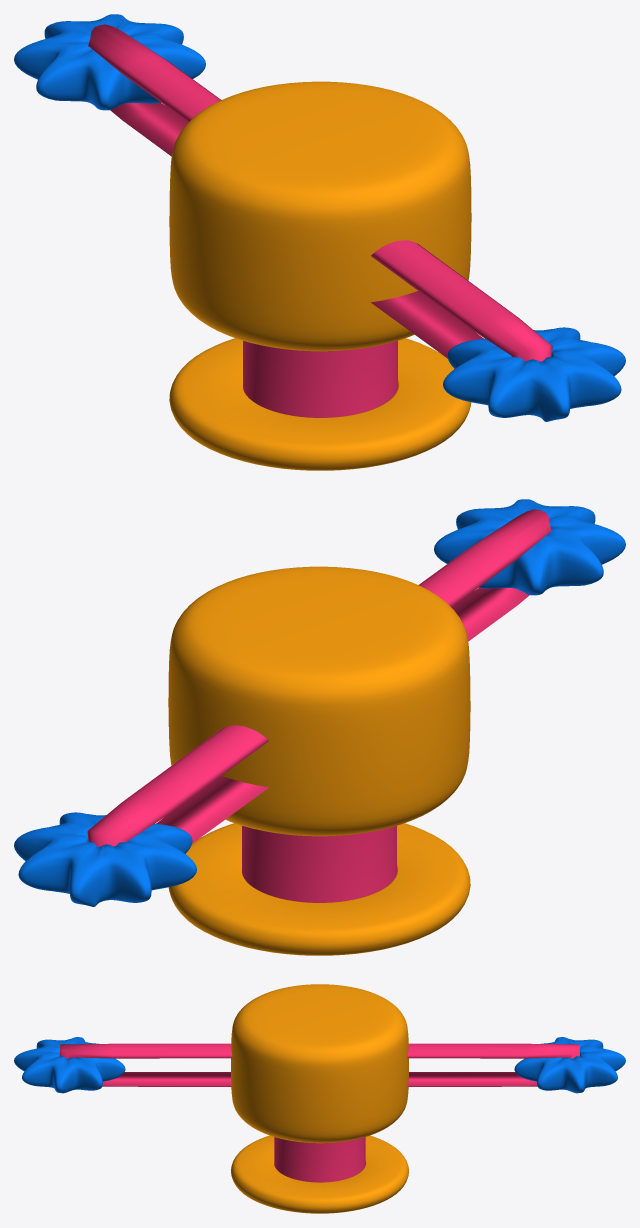
3 renders of one model, top to bottom at view 1: azimuth 30°, elevation 25°; view 2: azimuth 150°, elevation 25°; view 3: azimuth 270°, elevation 25°, orthographic. The views are drawn at different scales.
Parts seen in each view (by area): view 1: Merkez.008, Knife.025, Kol.006, Knife.014, Kol.005; view 2: Merkez.008, Knife.014, Kol.005, Knife.025, Kol.006; view 3: Merkez.008, Kol.005, Kol.006, Knife.014, Knife.025.
Part boxes in pixels (x1=…): Merkez.008: x1=169, y1=81, x2=471, y2=470; Knife.025: x1=443, y1=327, x2=625, y2=421; Kol.006: x1=371, y1=240, x2=552, y2=361; Knife.014: x1=14, y1=14, x2=205, y2=110; Kol.005: x1=88, y1=24, x2=221, y2=156; Merkez.008: x1=168, y1=566, x2=470, y2=955; Knife.014: x1=14, y1=812, x2=196, y2=906; Kol.005: x1=87, y1=725, x2=268, y2=846; Knife.025: x1=434, y1=499, x2=625, y2=595; Kol.006: x1=418, y1=509, x2=551, y2=641; Merkez.008: x1=231, y1=984, x2=408, y2=1213; Kol.005: x1=407, y1=1043, x2=579, y2=1086; Kol.006: x1=60, y1=1043, x2=232, y2=1086; Knife.014: x1=514, y1=1037, x2=625, y2=1093; Knife.025: x1=14, y1=1037, x2=125, y2=1093.
Size of the model in its own units: 39.7 by 40.16 by 136.
